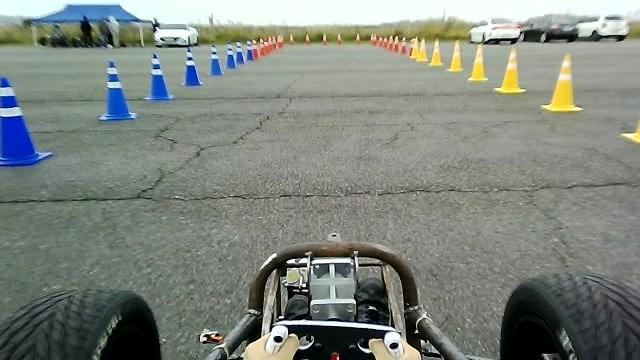blue cone: (0, 76, 54, 166), (98, 60, 136, 121), (142, 52, 174, 101), (180, 47, 202, 87), (207, 44, 224, 76)
yellow cone: (540, 53, 584, 112), (493, 47, 527, 93), (468, 43, 488, 81), (446, 39, 464, 72), (428, 38, 444, 66)
